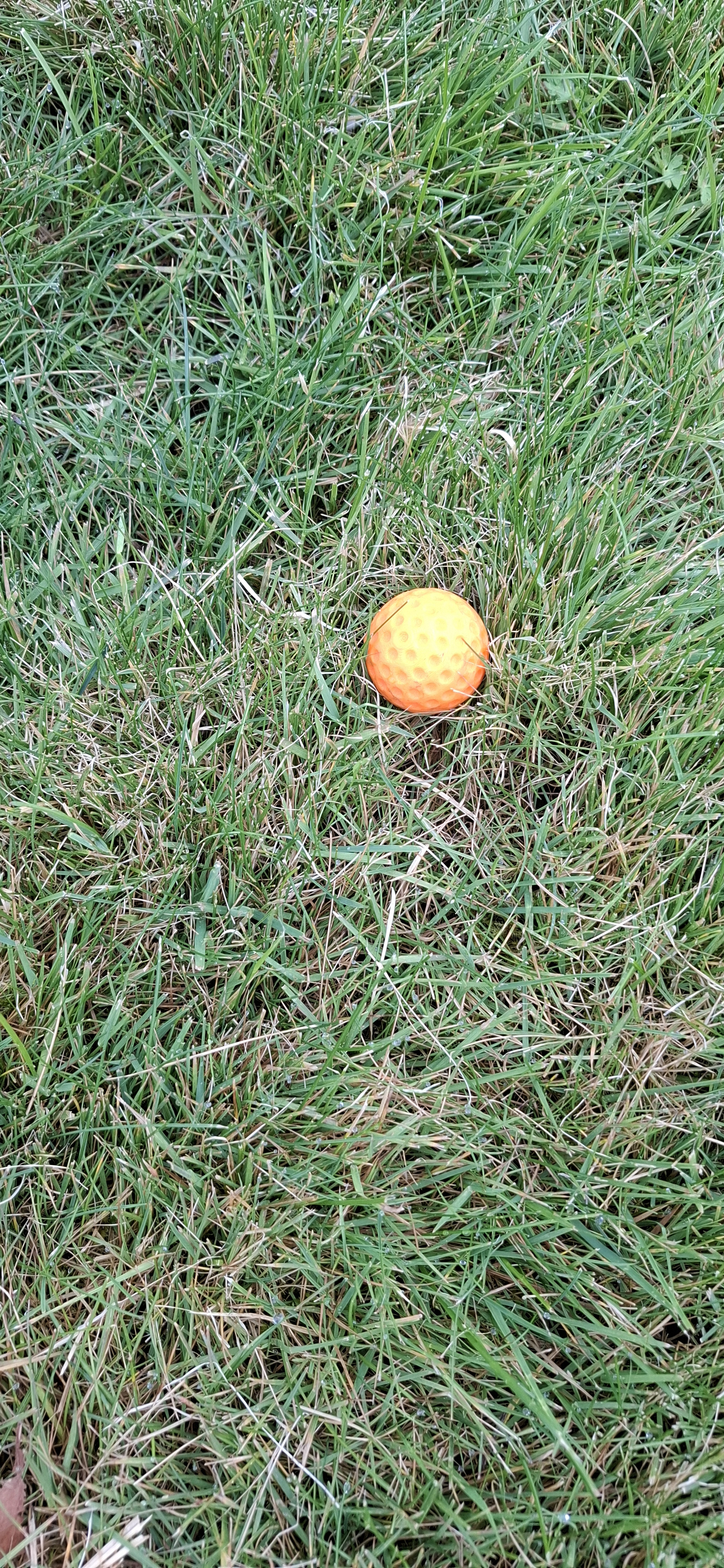ball: (271, 508, 330, 784)
